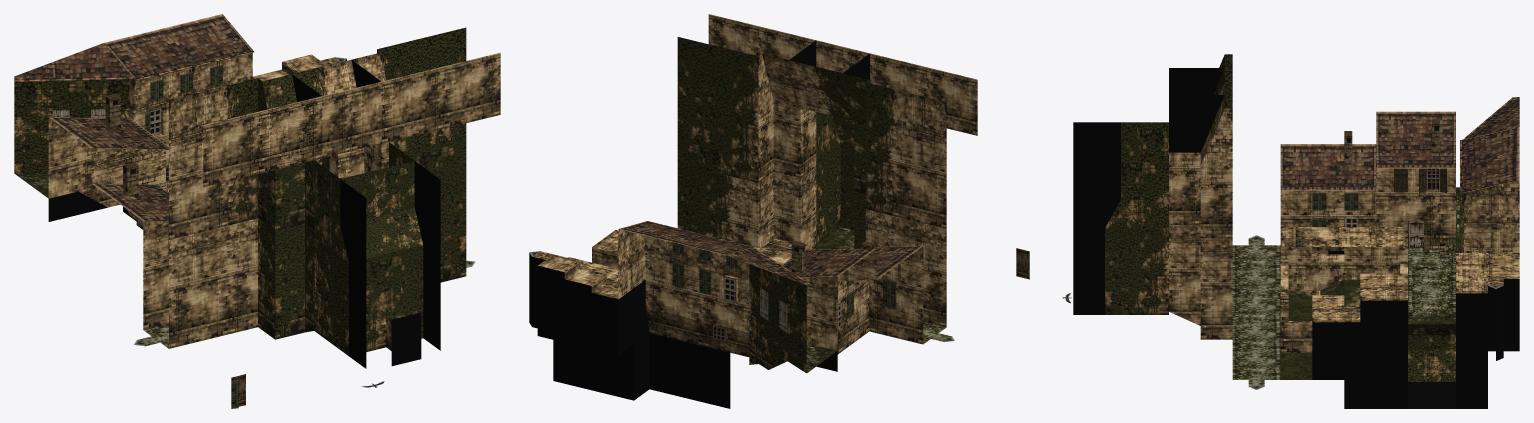
Rendered from MAP157.obj.
3 views of the same model, side by side, from view 1: azimuth 30°, elevation 25°; view 2: azimuth 150°, elevation 25°; view 3: azimuth 270°, elevation 25° (orthographic). The views are drawn at different scales.
Visible parts, largest first — view 1: mesh_45, mesh_49, mesh_50, mesh_46, mesh_68, mesh_61, mesh_109, mesh_66, mesh_51, mesh_56, mesh_18, mesh_105 (+26 smaller); view 2: mesh_19, mesh_45, mesh_51, mesh_52, mesh_71, mesh_61, mesh_47, mesh_49, mesh_50, mesh_93, mesh_46, mesh_6 (+24 smaller); view 3: mesh_20, mesh_11, mesh_52, mesh_56, mesh_6, mesh_105, mesh_61, mesh_68, mesh_108, mesh_78, mesh_92, mesh_71 (+30 smaller).
Boxes of the visible parts, left/top/right/bottom form: mesh_45: left=169, top=85, right=322, bottom=341; mesh_49: left=228, top=78, right=348, bottom=355; mesh_50: left=169, top=218, right=257, bottom=348; mesh_46: left=381, top=52, right=500, bottom=168; mesh_68: left=15, top=14, right=252, bottom=78; mesh_61: left=48, top=117, right=168, bottom=329; mesh_109: left=322, top=59, right=381, bottom=158; mesh_66: left=14, top=79, right=129, bottom=142; mesh_51: left=377, top=42, right=466, bottom=282; mesh_56: left=49, top=117, right=168, bottom=221; mesh_18: left=340, top=179, right=366, bottom=368; mesh_105: left=414, top=161, right=440, bottom=350; mesh_19: left=537, top=266, right=838, bottom=408; mesh_45: left=870, top=53, right=977, bottom=317; mesh_51: left=677, top=50, right=840, bottom=241; mesh_52: left=731, top=108, right=816, bottom=249; mesh_71: left=618, top=229, right=749, bottom=356; mesh_61: left=801, top=246, right=923, bottom=350; mesh_47: left=677, top=37, right=832, bottom=237; mesh_49: left=854, top=83, right=892, bottom=248; mesh_50: left=865, top=209, right=946, bottom=327; mesh_93: left=762, top=53, right=800, bottom=177; mesh_46: left=708, top=14, right=815, bottom=59; mesh_6: left=532, top=230, right=814, bottom=292; mesh_20: left=1312, top=293, right=1487, bottom=408; mesh_11: left=1232, top=245, right=1455, bottom=386; mesh_52: left=1169, top=152, right=1232, bottom=339; mesh_56: left=1280, top=111, right=1455, bottom=185; mesh_6: left=1280, top=227, right=1519, bottom=324; mesh_105: left=1073, top=156, right=1120, bottom=314; mesh_61: left=1280, top=168, right=1455, bottom=249; mesh_68: left=1464, top=97, right=1519, bottom=192; mesh_108: left=1200, top=108, right=1232, bottom=238; mesh_78: left=1280, top=247, right=1407, bottom=352; mesh_92: left=1137, top=228, right=1168, bottom=314; mesh_71: left=1457, top=180, right=1519, bottom=252.
Size of the model in its own units: 294 by 230 by 370.
Materials: 20 (20 with a texture image).
